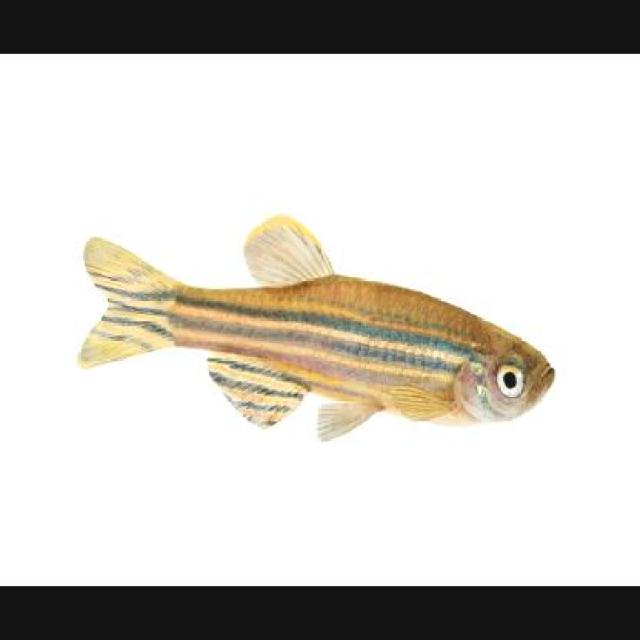ZebraFish: (74, 209, 554, 434)
